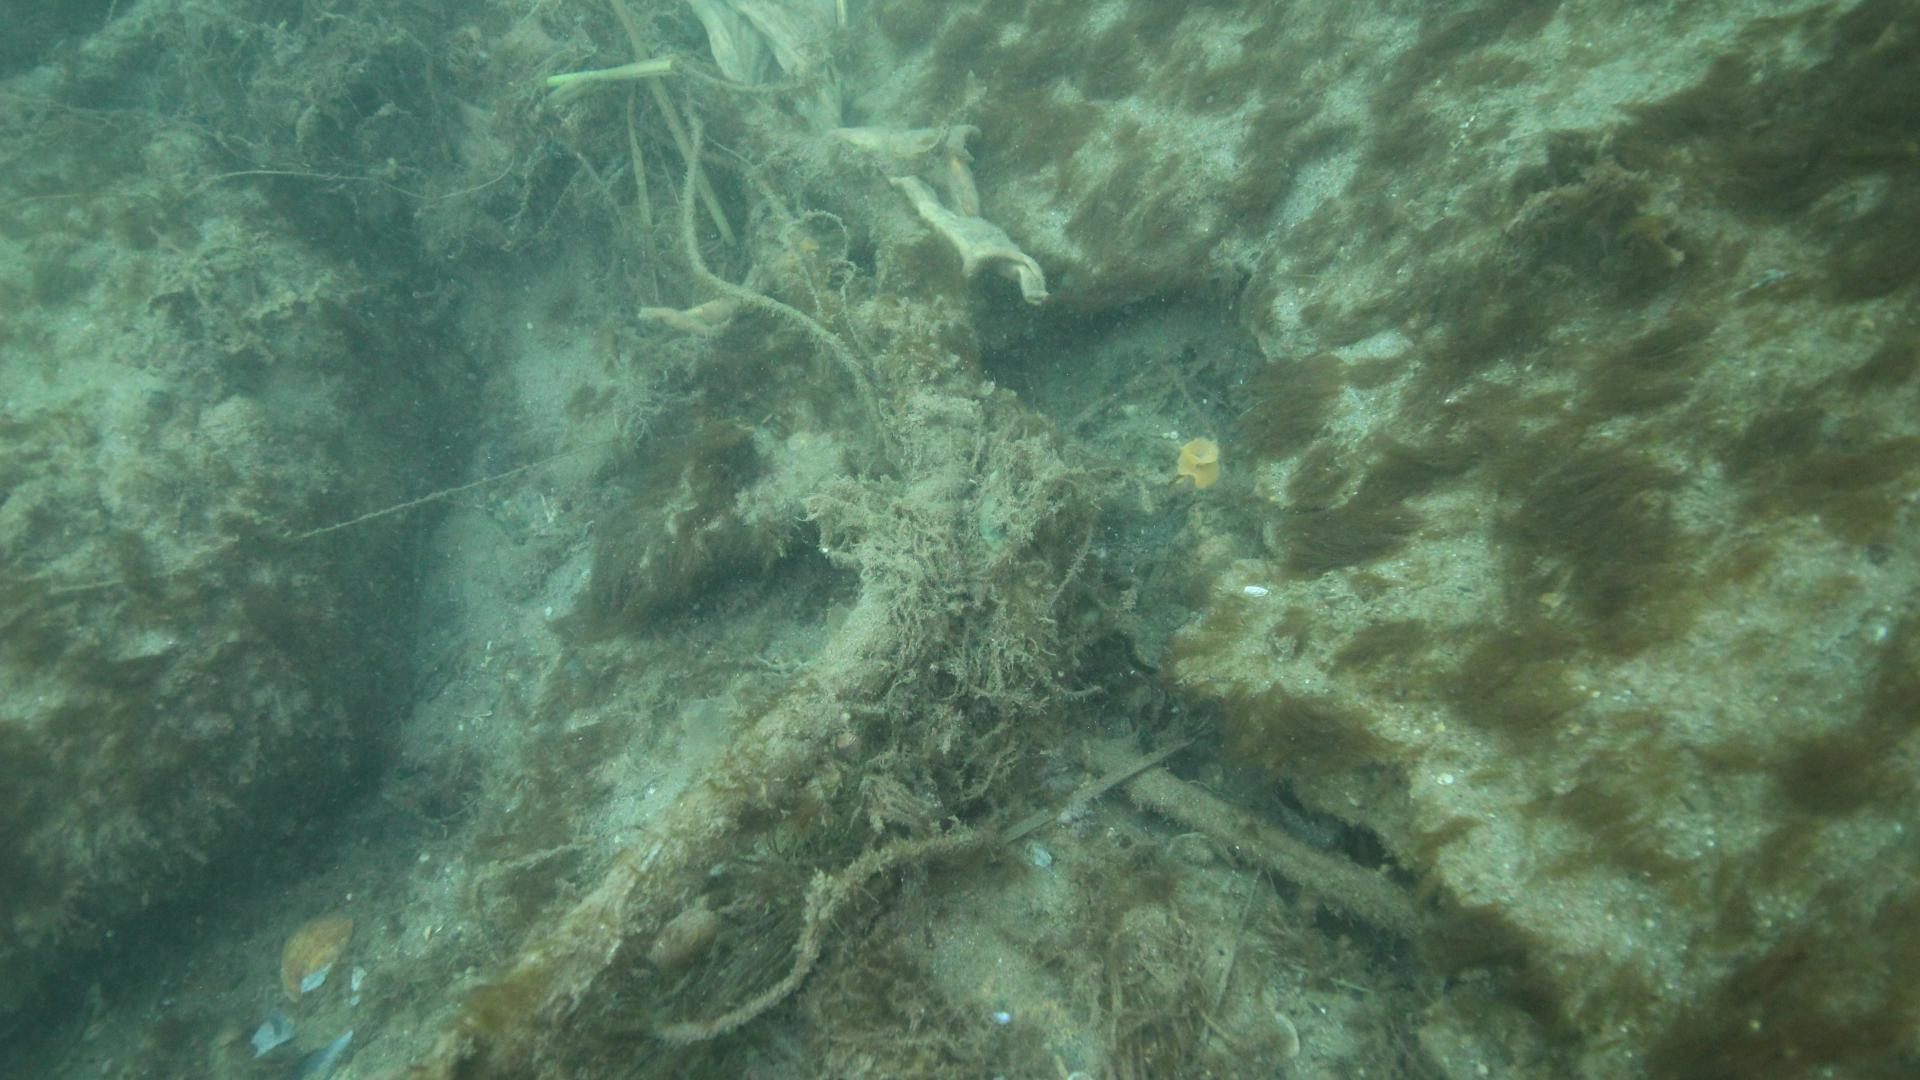rope: (534, 287, 978, 975)
